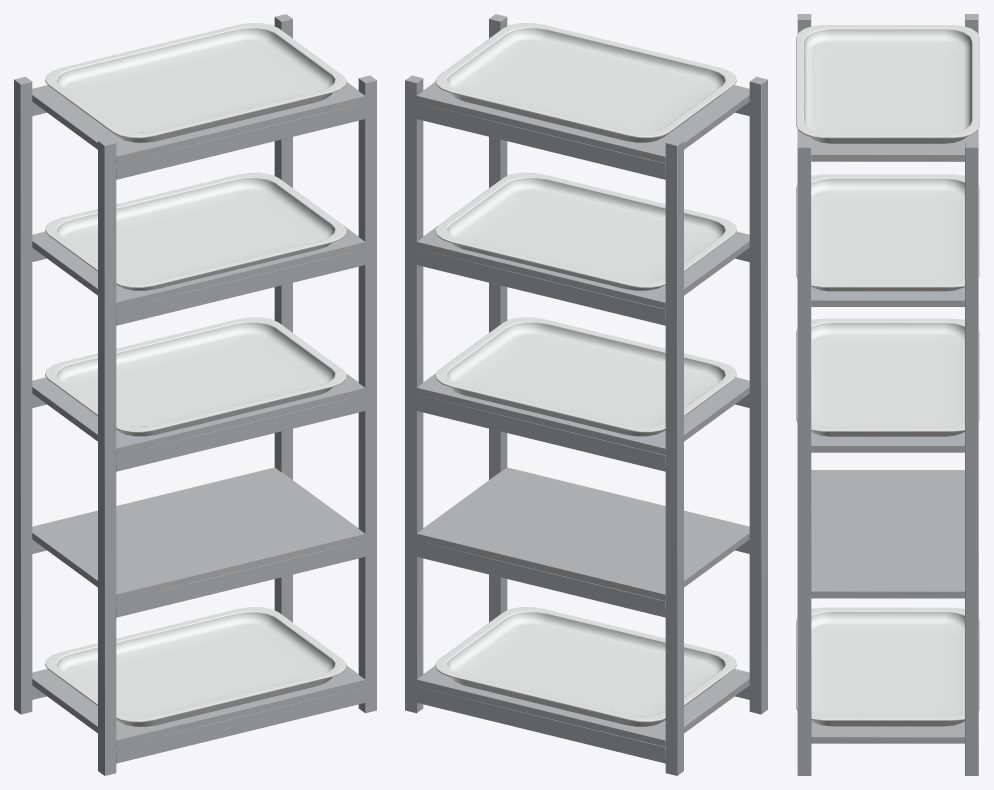
The model's file is Tiered_MetalTray_Rack.glb.
3 renders of one model, left to right at view 1: azimuth 30°, elevation 25°; view 2: azimuth 150°, elevation 25°; view 3: azimuth 270°, elevation 25°, orthographic.
Visible parts, largest first — view 1: shelving-1600x600x2300.028, shelving-1600x600x2300.001, Tray.004, Tray, Tray.002, Tray.003, shelving-1600x600x2300.002; view 2: shelving-1600x600x2300.028, shelving-1600x600x2300.001, Tray.004, Tray, Tray.002, Tray.003, shelving-1600x600x2300.002; view 3: shelving-1600x600x2300.028, Tray.004, Tray, Tray.002, Tray.003, shelving-1600x600x2300.002, shelving-1600x600x2300.001.
Part boxes in pixels (bbox=[...]): shelving-1600x600x2300.028: bbox=[32, 82, 365, 763]; shelving-1600x600x2300.001: bbox=[14, 76, 116, 775]; Tray.004: bbox=[45, 23, 346, 142]; Tray: bbox=[45, 607, 346, 726]; Tray.002: bbox=[45, 317, 346, 436]; Tray.003: bbox=[45, 172, 346, 290]; shelving-1600x600x2300.002: bbox=[274, 14, 376, 713]; shelving-1600x600x2300.028: bbox=[416, 82, 749, 763]; shelving-1600x600x2300.001: bbox=[665, 76, 767, 775]; Tray.004: bbox=[435, 23, 736, 142]; Tray: bbox=[435, 607, 736, 726]; Tray.002: bbox=[435, 317, 736, 436]; Tray.003: bbox=[435, 172, 736, 290]; shelving-1600x600x2300.002: bbox=[405, 14, 507, 713]; shelving-1600x600x2300.028: bbox=[797, 33, 978, 743]; Tray.004: bbox=[796, 25, 979, 143]; Tray: bbox=[796, 607, 979, 726]; Tray.002: bbox=[796, 318, 979, 436]; Tray.003: bbox=[796, 174, 979, 291]; shelving-1600x600x2300.002: bbox=[797, 141, 978, 775]; shelving-1600x600x2300.001: bbox=[797, 14, 978, 33].
Size of the model in its own units: 1.04 by 2.3 by 0.6092.
2 materials, 1 textured.
